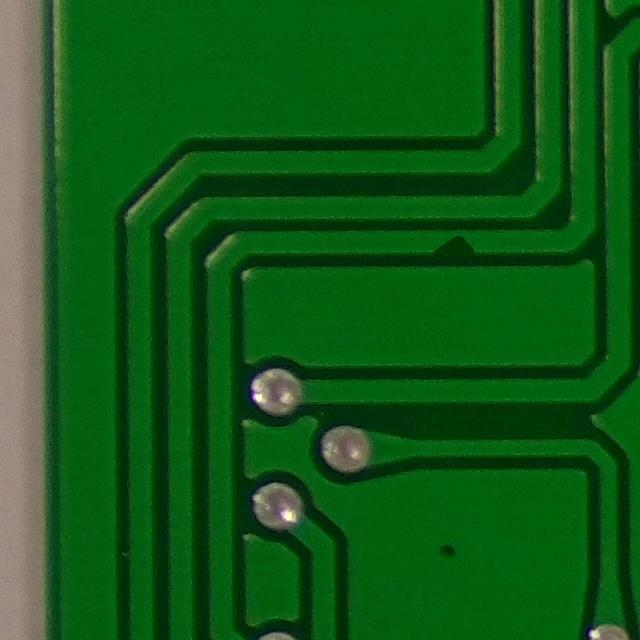mouse_bite: (415, 222, 490, 263)
